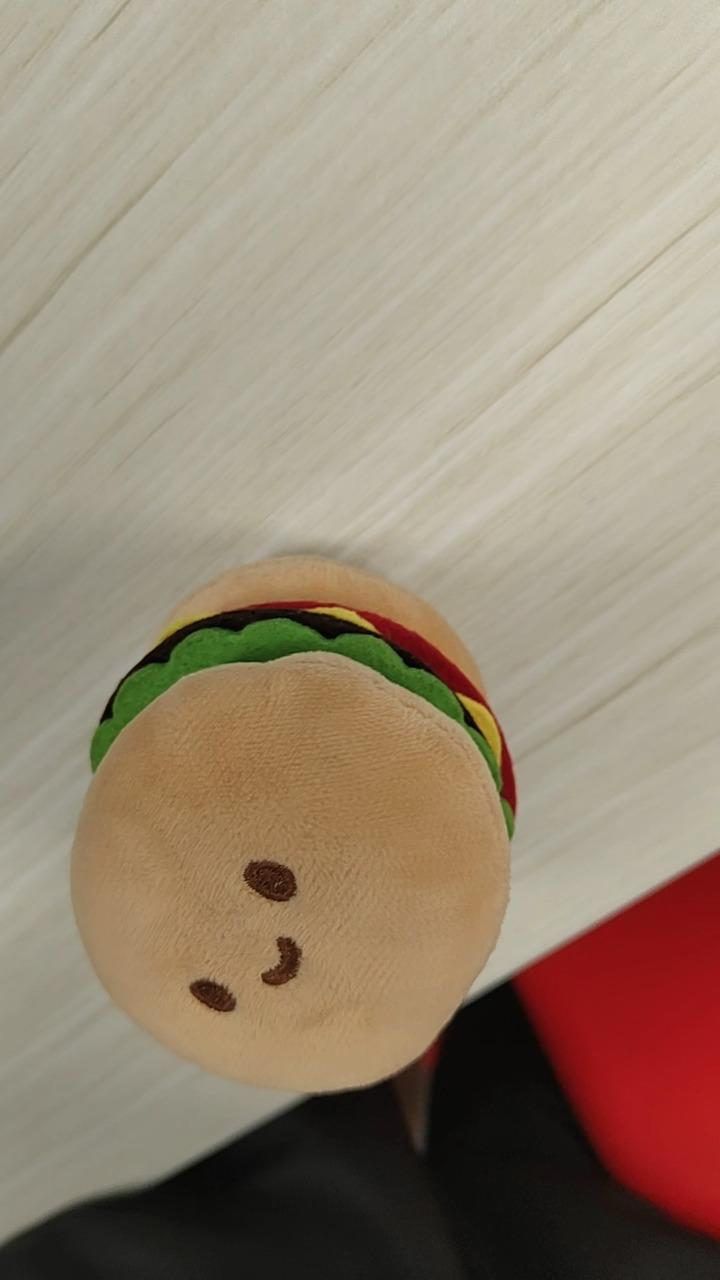hamburger: (68, 551, 519, 1098)
